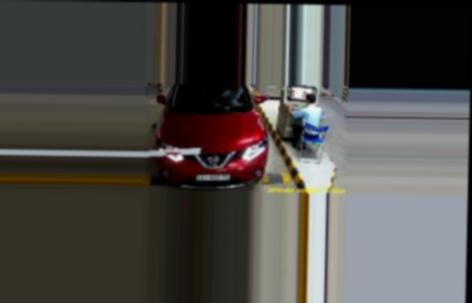License_Plate: (194, 171, 231, 181)
